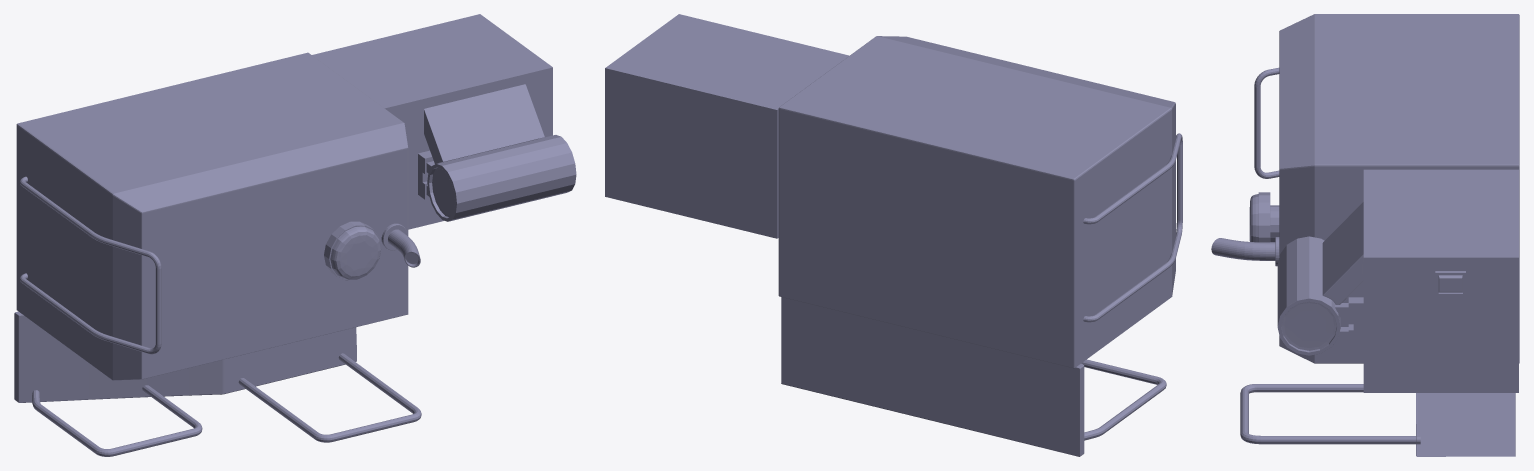
File: engine_LowPoly.obj
The picture shows the model from 3 angles, left to right: view 1: azimuth 30°, elevation 25°; view 2: azimuth 150°, elevation 25°; view 3: azimuth 270°, elevation 25°; orthographic projection. The views are drawn at different scales.
Visible parts, largest first — view 1: engine_LowPoly\Facets; view 2: engine_LowPoly\Facets; view 3: engine_LowPoly\Facets.
Boxes of the visible parts, x1,y1,x2,y2 form: engine_LowPoly\Facets: (14, 14, 576, 456); engine_LowPoly\Facets: (605, 14, 1182, 456); engine_LowPoly\Facets: (1211, 14, 1519, 456).
Bounding box in the file's own units: 2.7 × 1.48 × 1.42.
